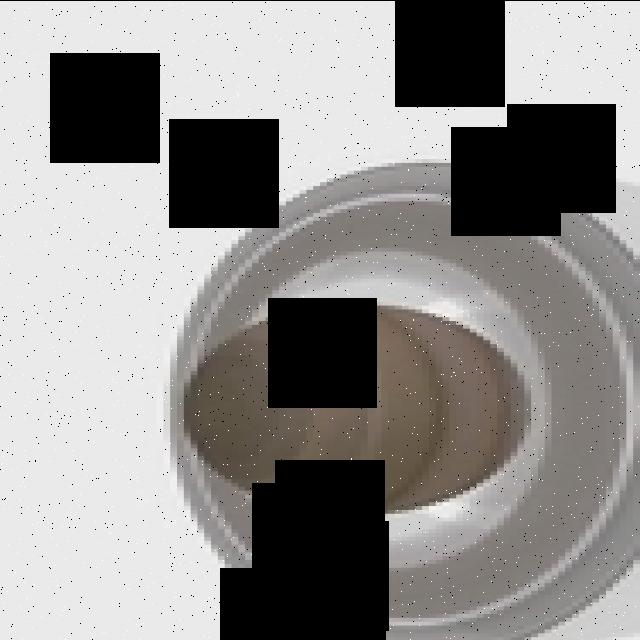Saturn: (156, 154, 640, 640)
